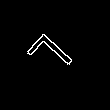L_SE: (24, 30, 82, 87)
